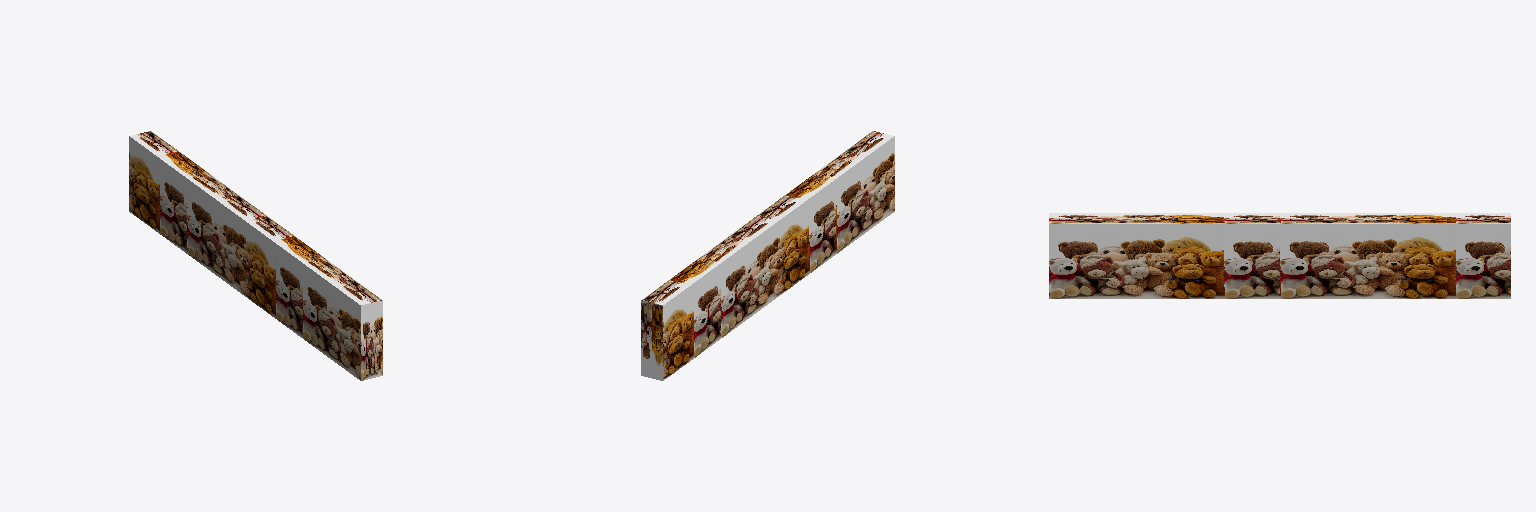
3 views of the same model, side by side, from view 1: azimuth 30°, elevation 25°; view 2: azimuth 150°, elevation 25°; view 3: azimuth 270°, elevation 25° (orthographic).
Visible parts, largest first — view 1: Cube, Cube.003, Cube.002, Cube.001; view 2: Cube.003, Cube, Cube.002, Cube.001; view 3: Cube.001, Cube.003, Cube.002, Cube.
Part boxes in pixels (x1,y1,x2,y2): Cube: (303, 258, 382, 380); Cube.003: (129, 131, 207, 253); Cube.002: (187, 173, 266, 295); Cube.001: (245, 216, 323, 337); Cube.003: (641, 258, 720, 380); Cube: (816, 131, 894, 253); Cube.002: (700, 216, 778, 337); Cube.001: (757, 173, 836, 295); Cube.001: (1163, 213, 1279, 298); Cube.003: (1395, 213, 1510, 298); Cube.002: (1280, 213, 1395, 298); Cube: (1049, 213, 1164, 298).
Bounding box in the file's own units: 0.1744 × 0.5782 × 3.21.
4 materials, 1 textured.